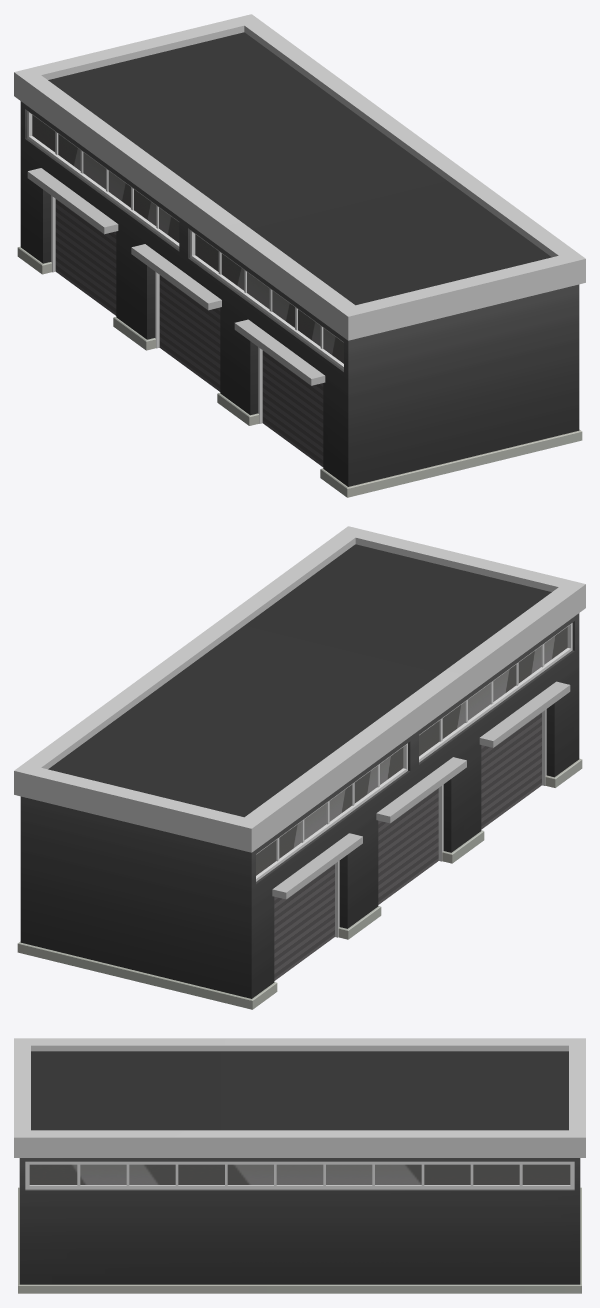
The model's file is Building_Fabric_3_D.fbx.
3 views of the same model, one above another, from view 1: azimuth 30°, elevation 25°; view 2: azimuth 150°, elevation 25°; view 3: azimuth 270°, elevation 25° (orthographic). The views are drawn at different scales.
Parts seen in each view (by area): view 1: Building_Fabric_3_D; view 2: Building_Fabric_3_D; view 3: Building_Fabric_3_D.
Part boxes in pixels (box(x1,y1,x2,y2)): Building_Fabric_3_D: box(14, 14, 585, 497); Building_Fabric_3_D: box(14, 526, 585, 1009); Building_Fabric_3_D: box(14, 1038, 585, 1293).
Bounding box in the file's own units: 657 × 462 × 1531.
